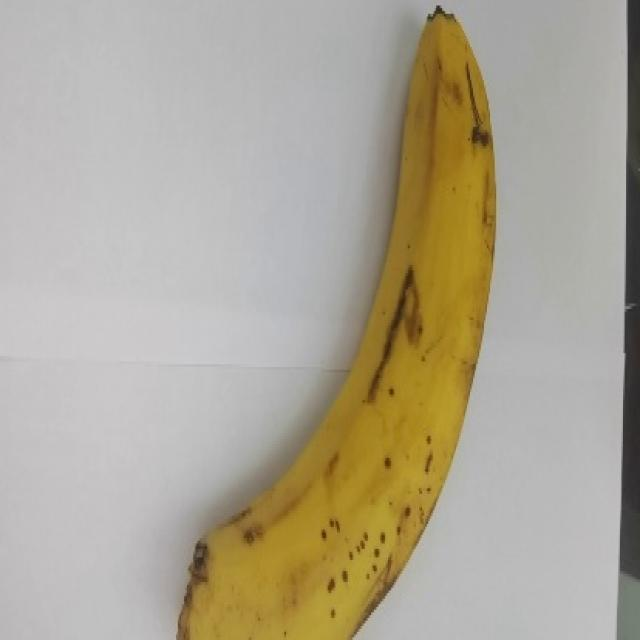Banana: (175, 4, 497, 639)
